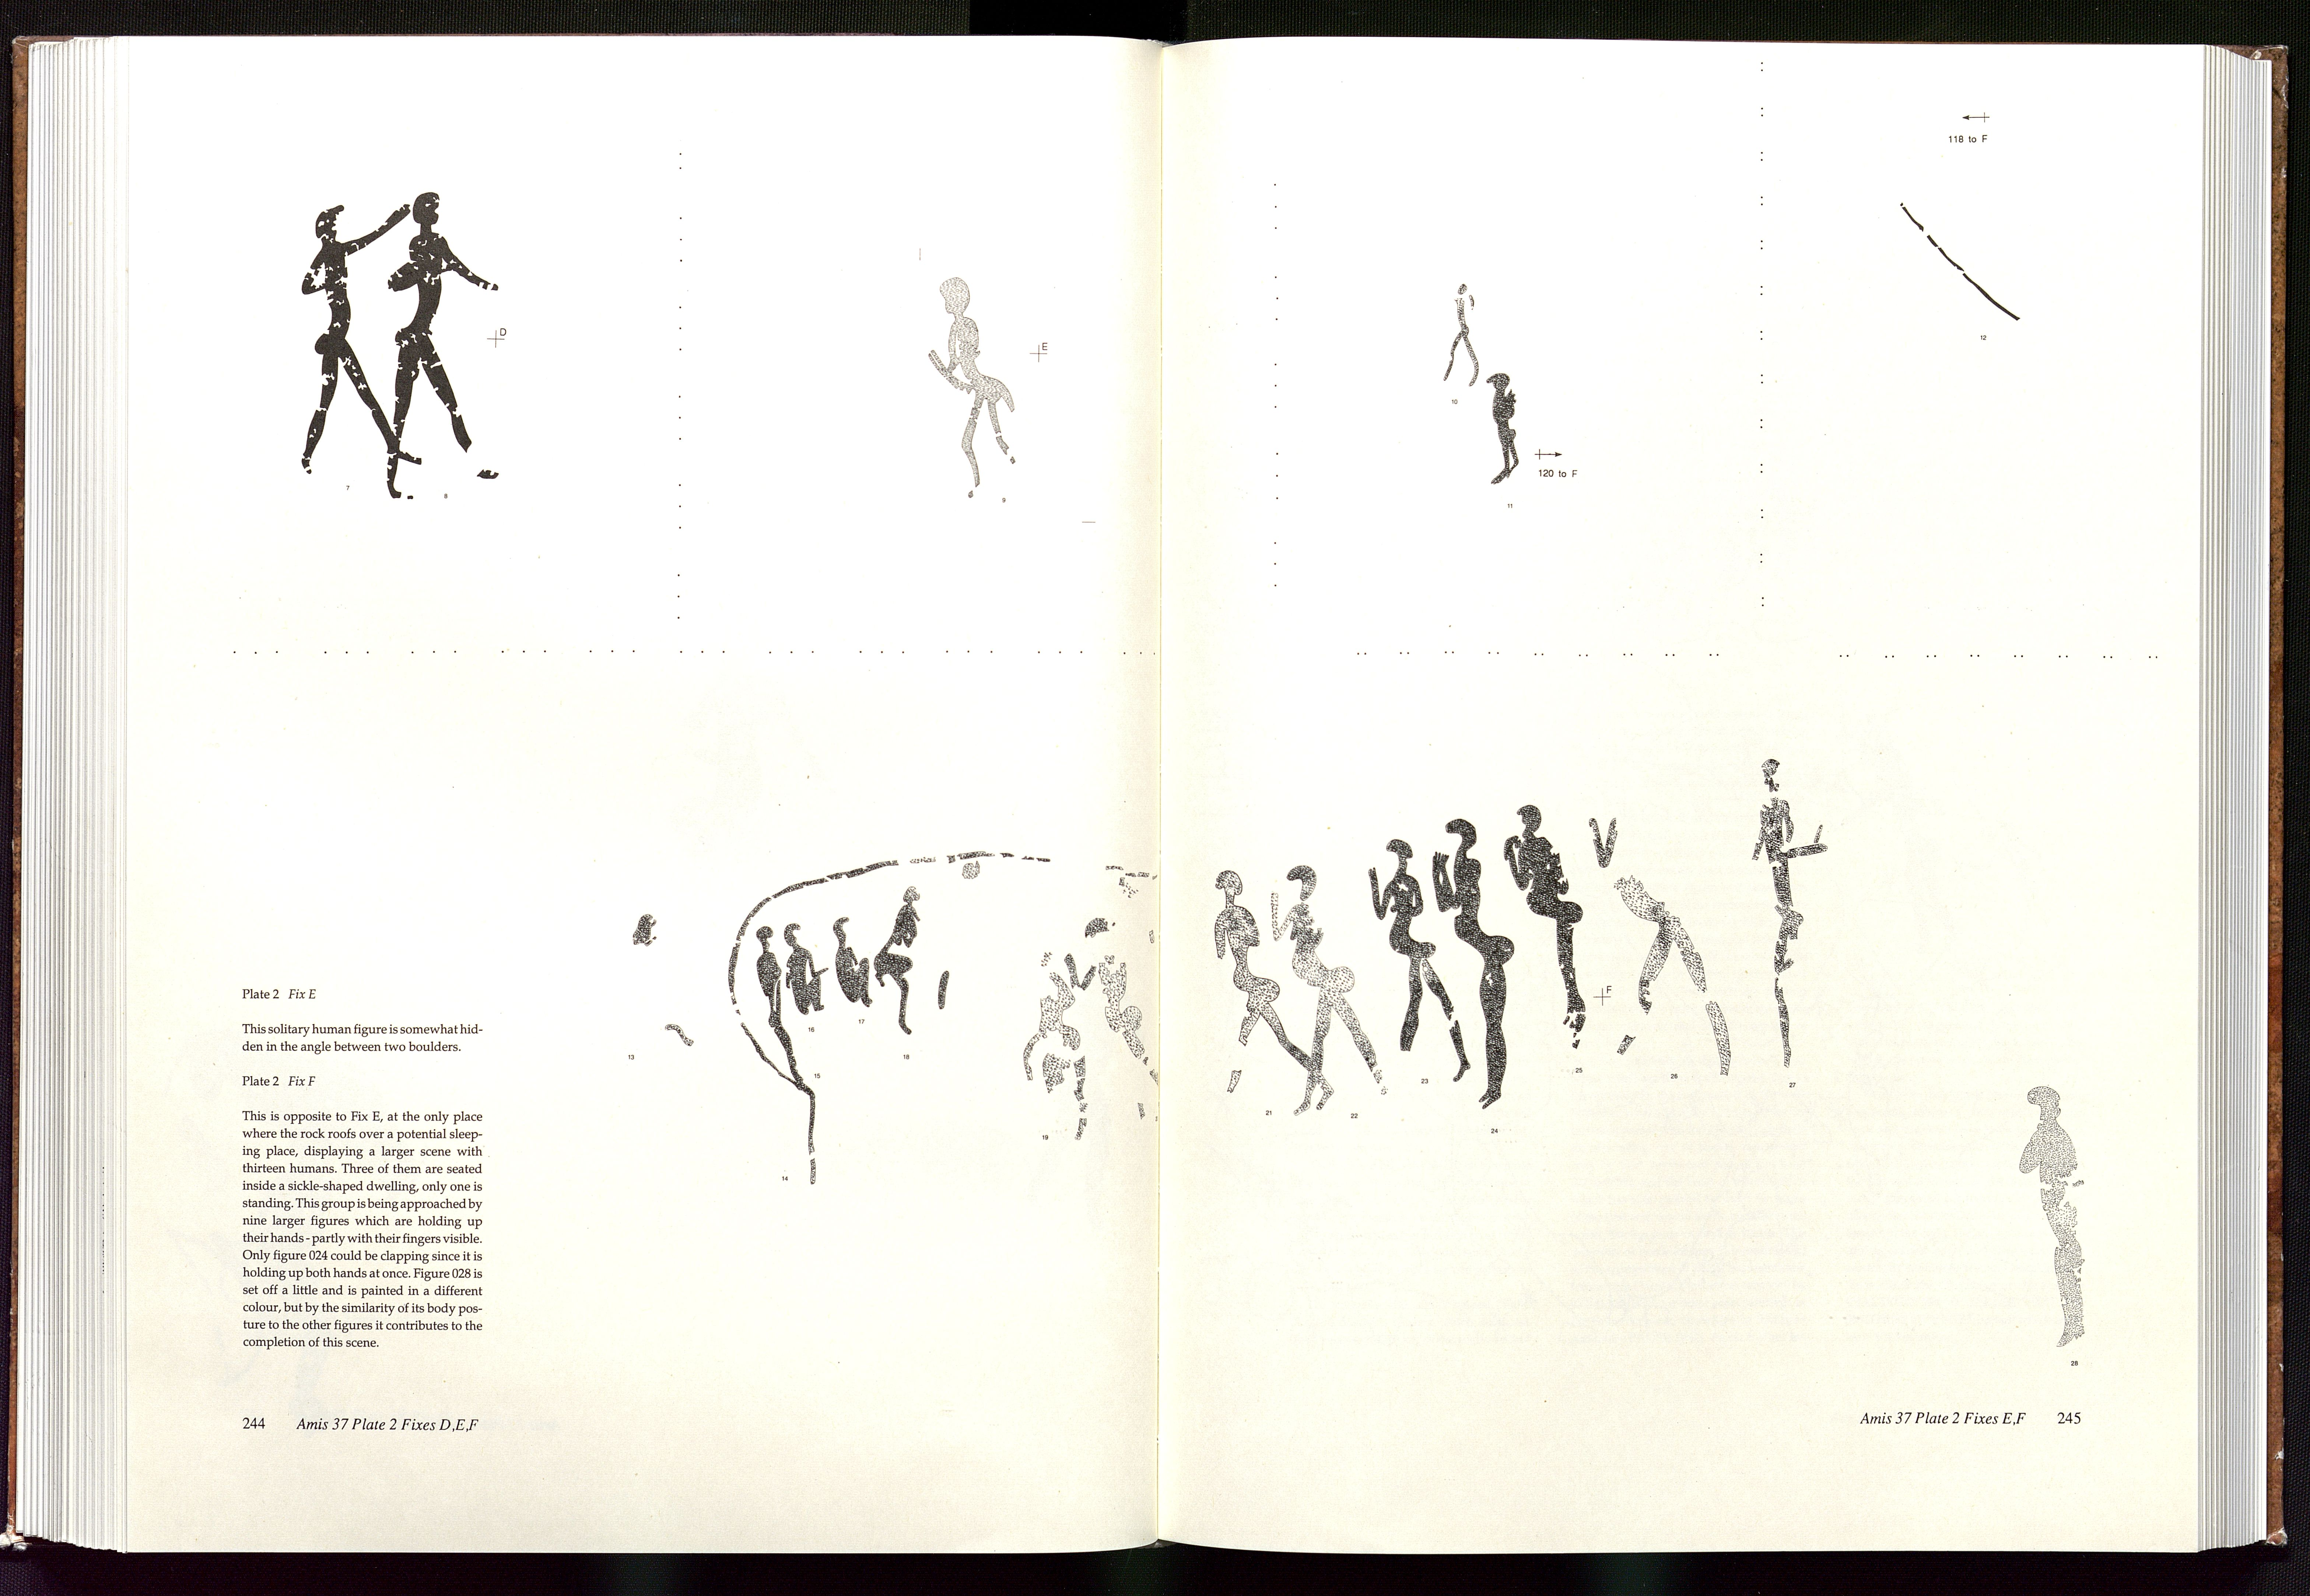human: (382, 180, 515, 517), (287, 190, 427, 477), (1262, 860, 1392, 1121), (1200, 868, 1333, 1121), (1741, 747, 1836, 1077), (1421, 806, 1522, 1111), (1362, 828, 1473, 1101), (915, 269, 1035, 507), (1500, 801, 1613, 1052), (2011, 1074, 2109, 1351), (1478, 372, 1532, 492), (1438, 274, 1485, 411)
